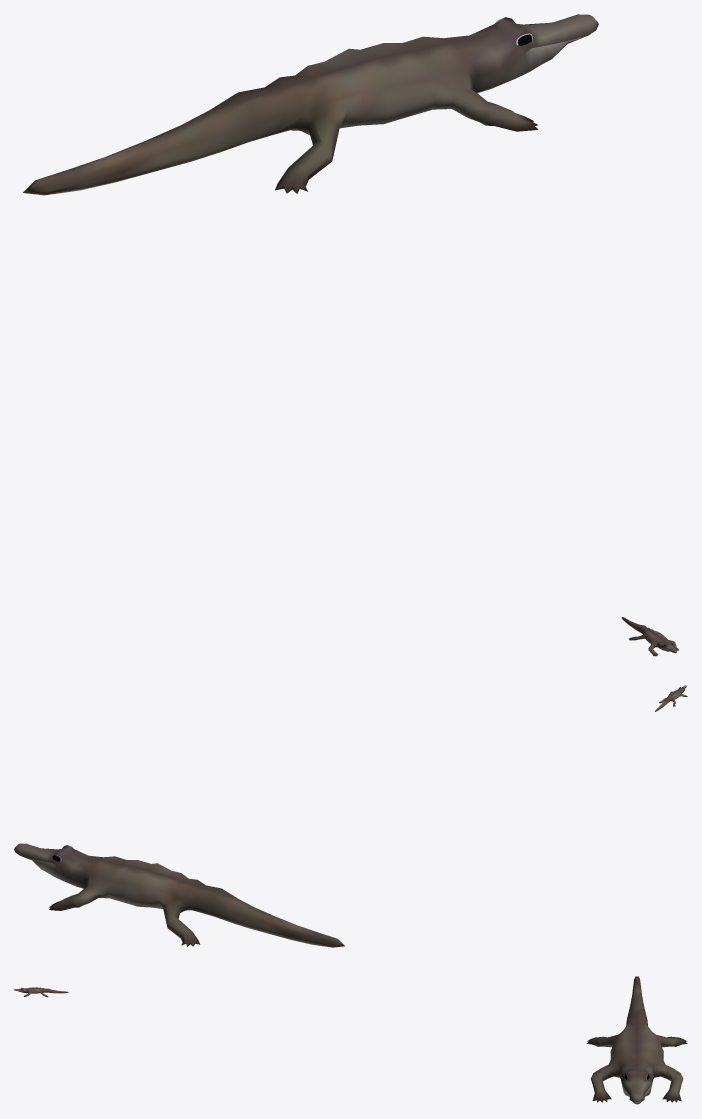
Rendered from crocoococo.glb.
3 renders of one model, top to bottom at view 1: azimuth 30°, elevation 25°; view 2: azimuth 150°, elevation 25°; view 3: azimuth 270°, elevation 25°, orthographic. The views are drawn at different scales.
Parts seen in each view (by area): view 1: base.117; view 2: base.117; view 3: base.117 (×2).
Boxes of the visible parts, left/top/right/bottom form: base.117: left=23, top=14, right=598, bottom=195; base.117: left=14, top=843, right=344, bottom=947; base.117 (×2): left=14, top=976, right=687, bottom=1104.
Bounding box in the file's own units: 28.28 × 3.35 × 57.41.
